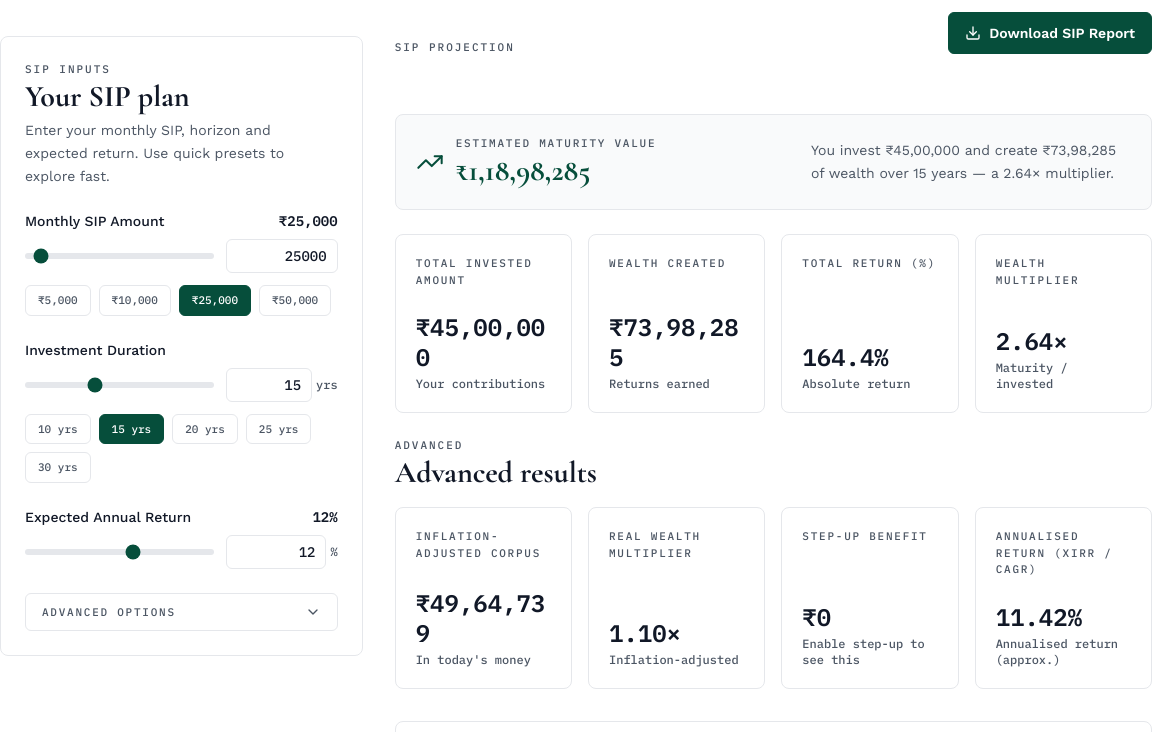
Test: SipCalculator (dedicated SIP experience) › applies the quick SIP-amount preset and recomputes the maturity value
The width and height of the screenshot is (1164, 732).
Click the button "₹50,000": point(295, 301) [259,285,331,316]
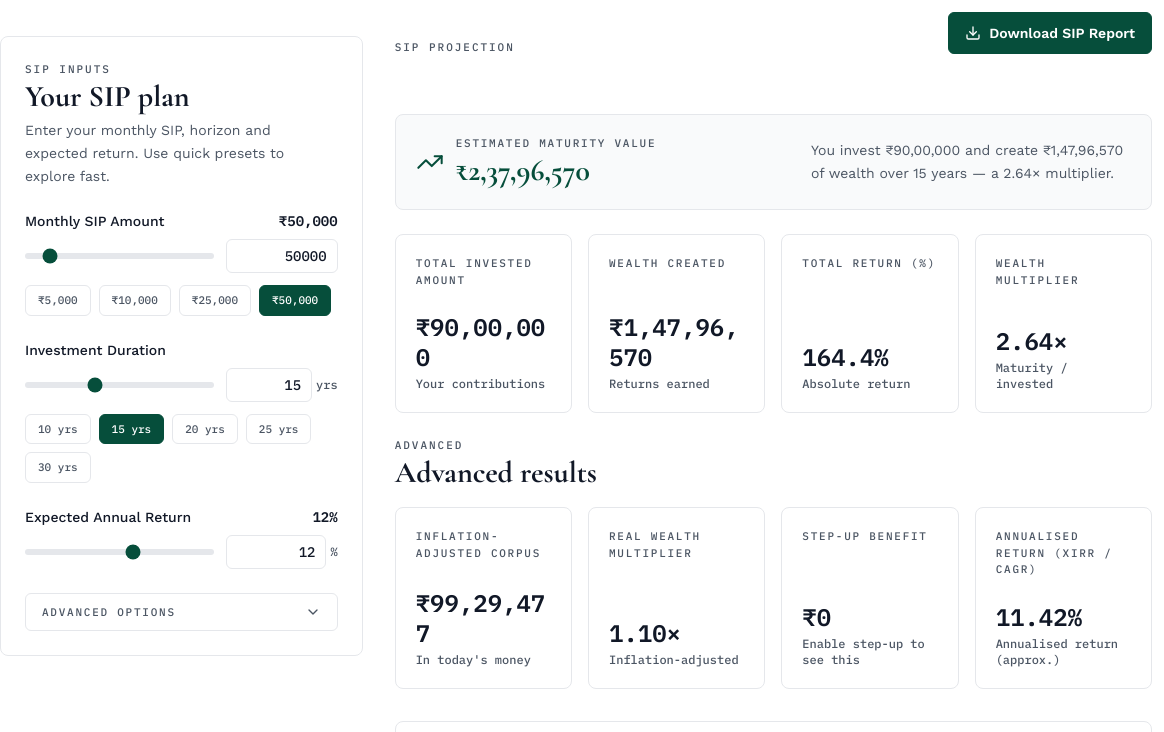
Expected: the number field with test id "field-sip-amount-input" holds "50000", [226,239,338,273]
